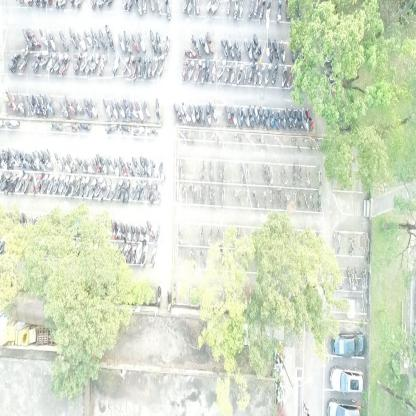car: (329, 364, 365, 396), (331, 331, 366, 358), (327, 398, 361, 416)
